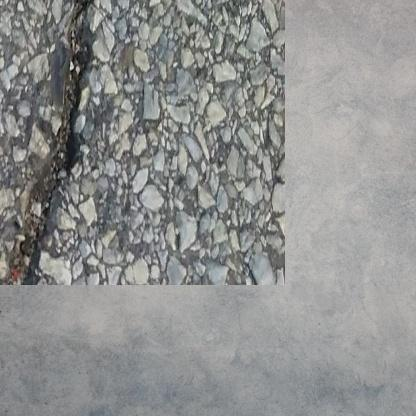Cracks: (1, 0, 108, 263)
